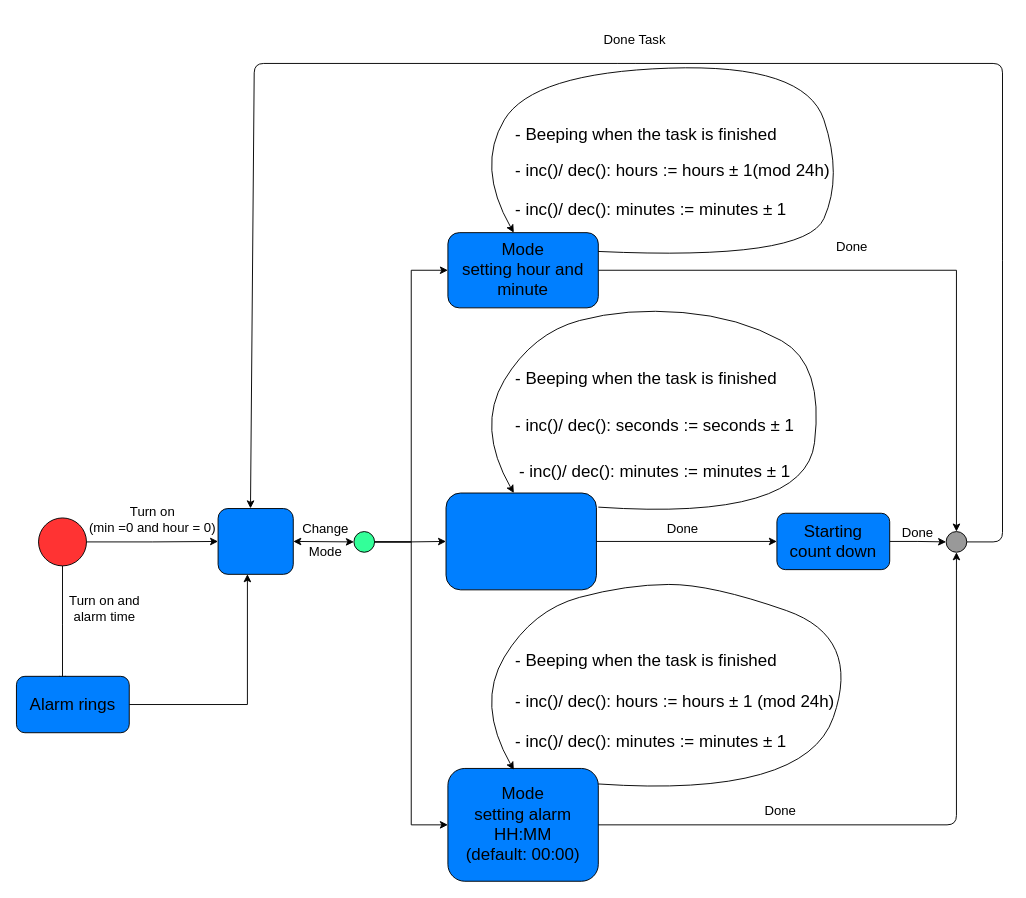
Image size: 1026x898. Some labels were removed from this diagram. Each missing label, with the box of its shape:
LCD display: (217, 508, 293, 574)
Mode setting counting MM:SS (default: 00:00): (445, 492, 596, 590)
